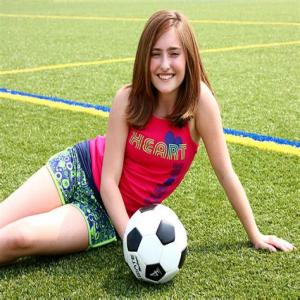Football: (118, 203, 192, 287)
